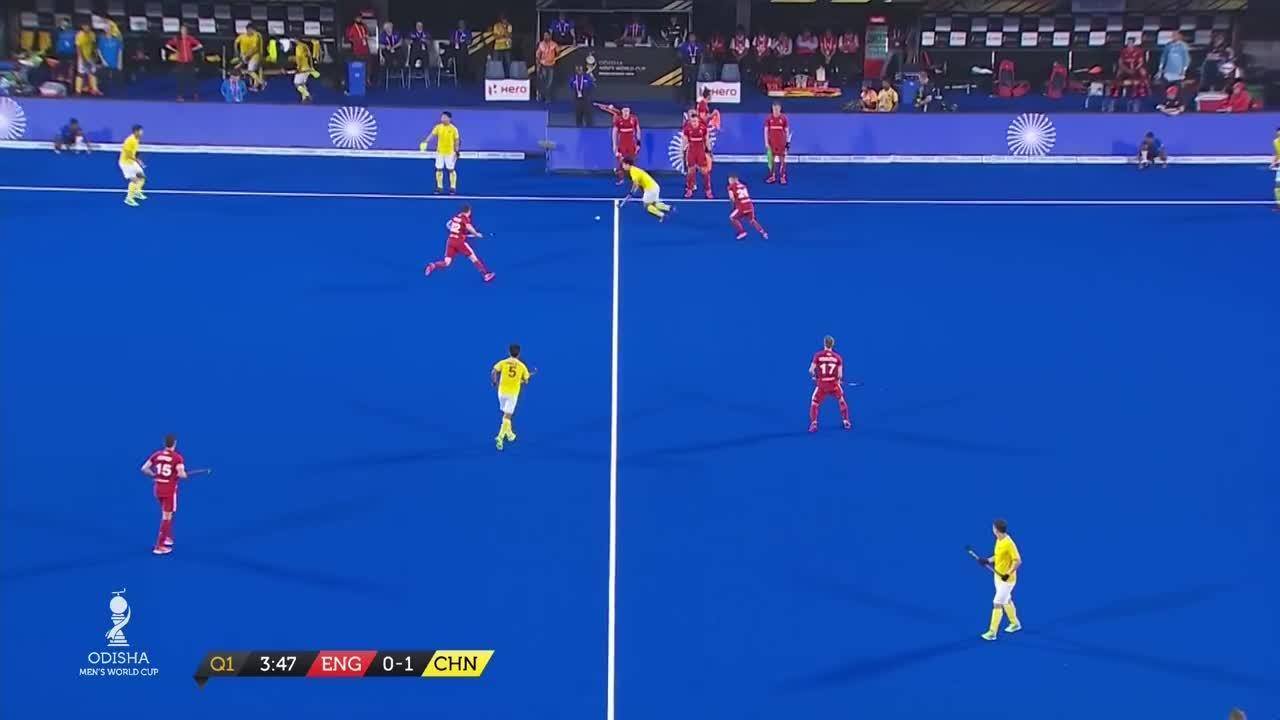ball: (589, 211, 607, 230)
